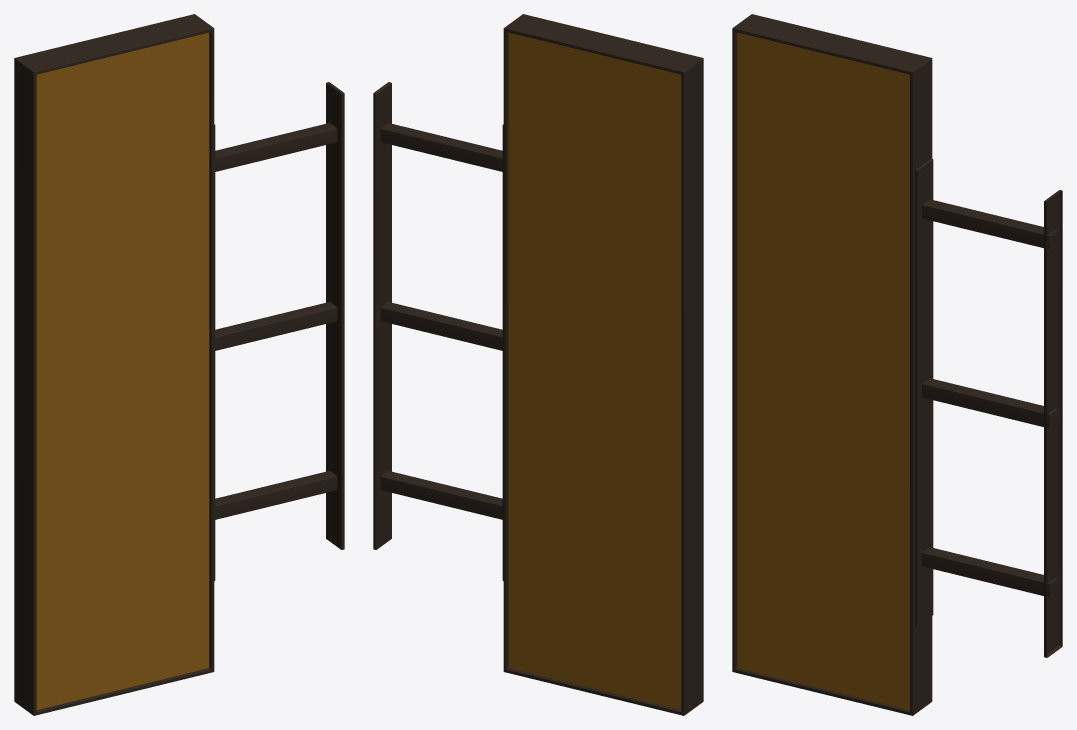
The model's file is Sign_02.FBX.
3 views of the same model, side by side, from view 1: azimuth 30°, elevation 25°; view 2: azimuth 150°, elevation 25°; view 3: azimuth 330°, elevation 25° (orthographic).
Visible parts, largest first — view 1: Sign_02; view 2: Sign_02; view 3: Sign_02.
Boxes of the visible parts, x1=… form: Sign_02: x1=14, y1=14, x2=344, y2=715; Sign_02: x1=373, y1=14, x2=703, y2=715; Sign_02: x1=732, y1=14, x2=1062, y2=715.
Bounding box in the file's own units: 91.56 × 180 × 10.
